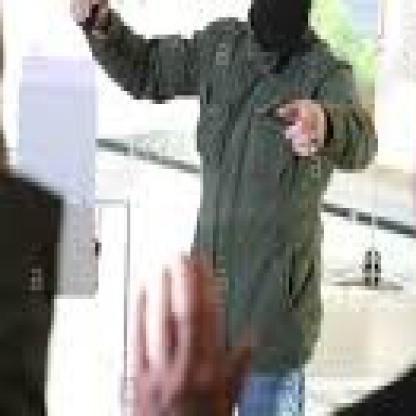gun: (47, 0, 118, 31)
